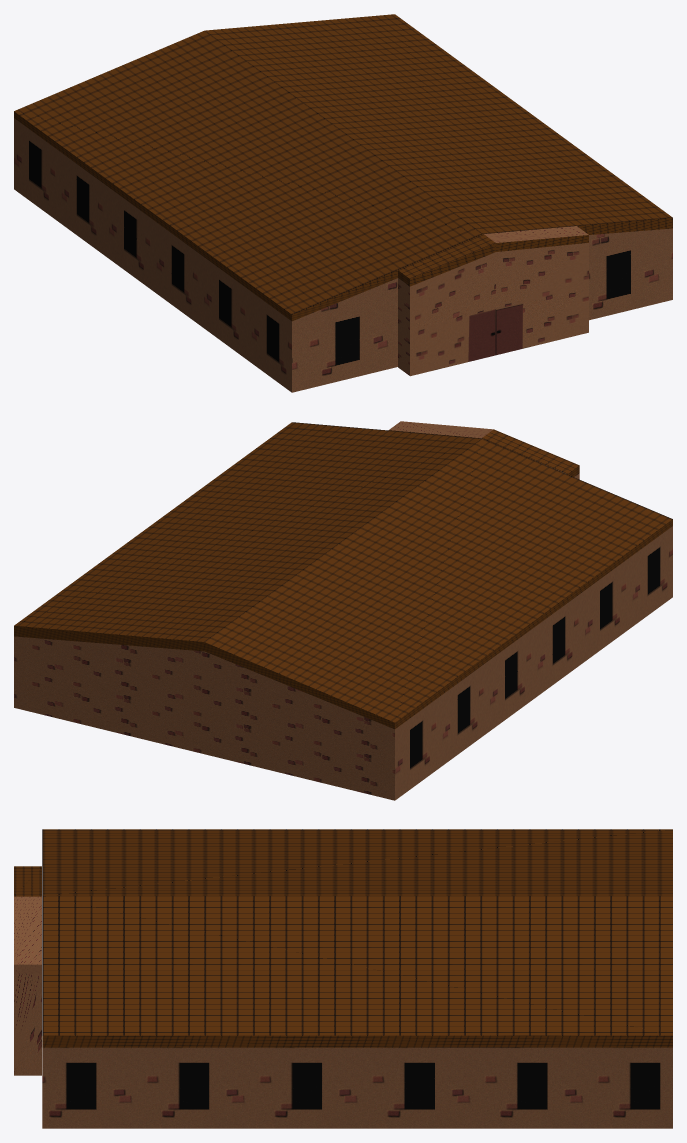
File: apple_origin.fbx
3 renders of one model, top to bottom at view 1: azimuth 30°, elevation 25°; view 2: azimuth 150°, elevation 25°; view 3: azimuth 270°, elevation 25°, orthographic. The views are drawn at different scales.
Parts seen in each view (by area): view 1: Apple; view 2: Apple; view 3: Apple.
Boxes of the visible parts, left/top/right/bottom form: Apple: left=14, top=14, right=672, bottom=392; Apple: left=14, top=421, right=672, bottom=800; Apple: left=14, top=829, right=672, bottom=1128.
Bounding box in the file's own units: 250 × 70.62 × 331.
8 materials, 6 textured.
